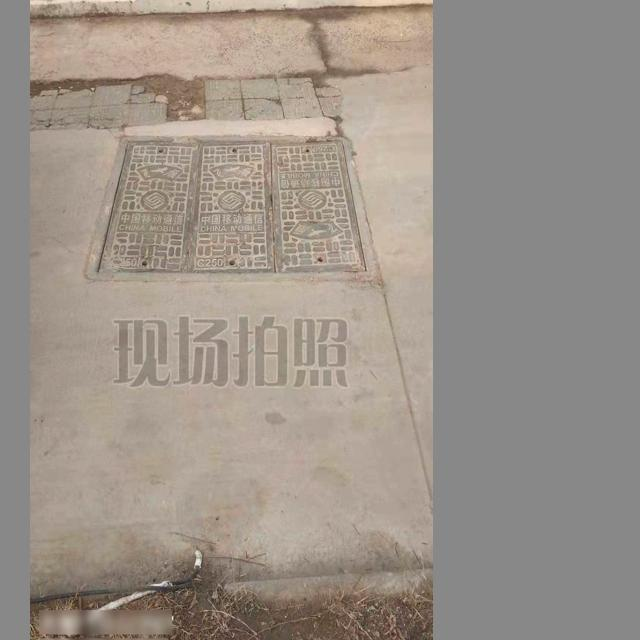good: (82, 134, 376, 282)
